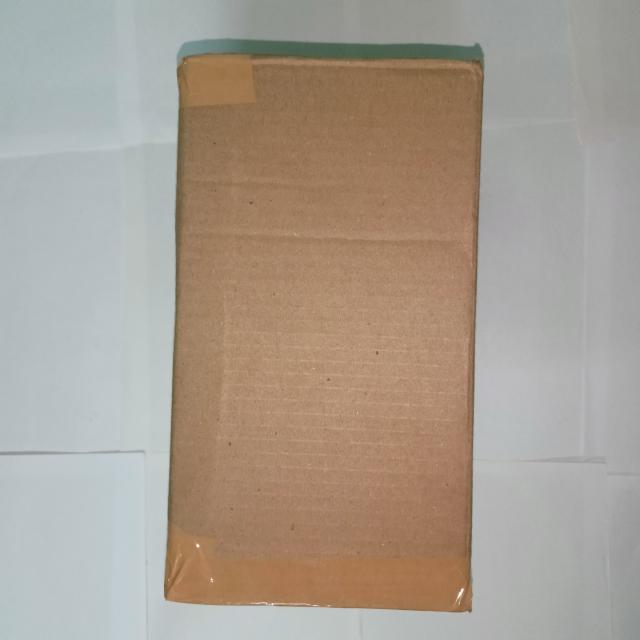box: (164, 66, 484, 609)
